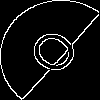O: (25, 25, 90, 85)
